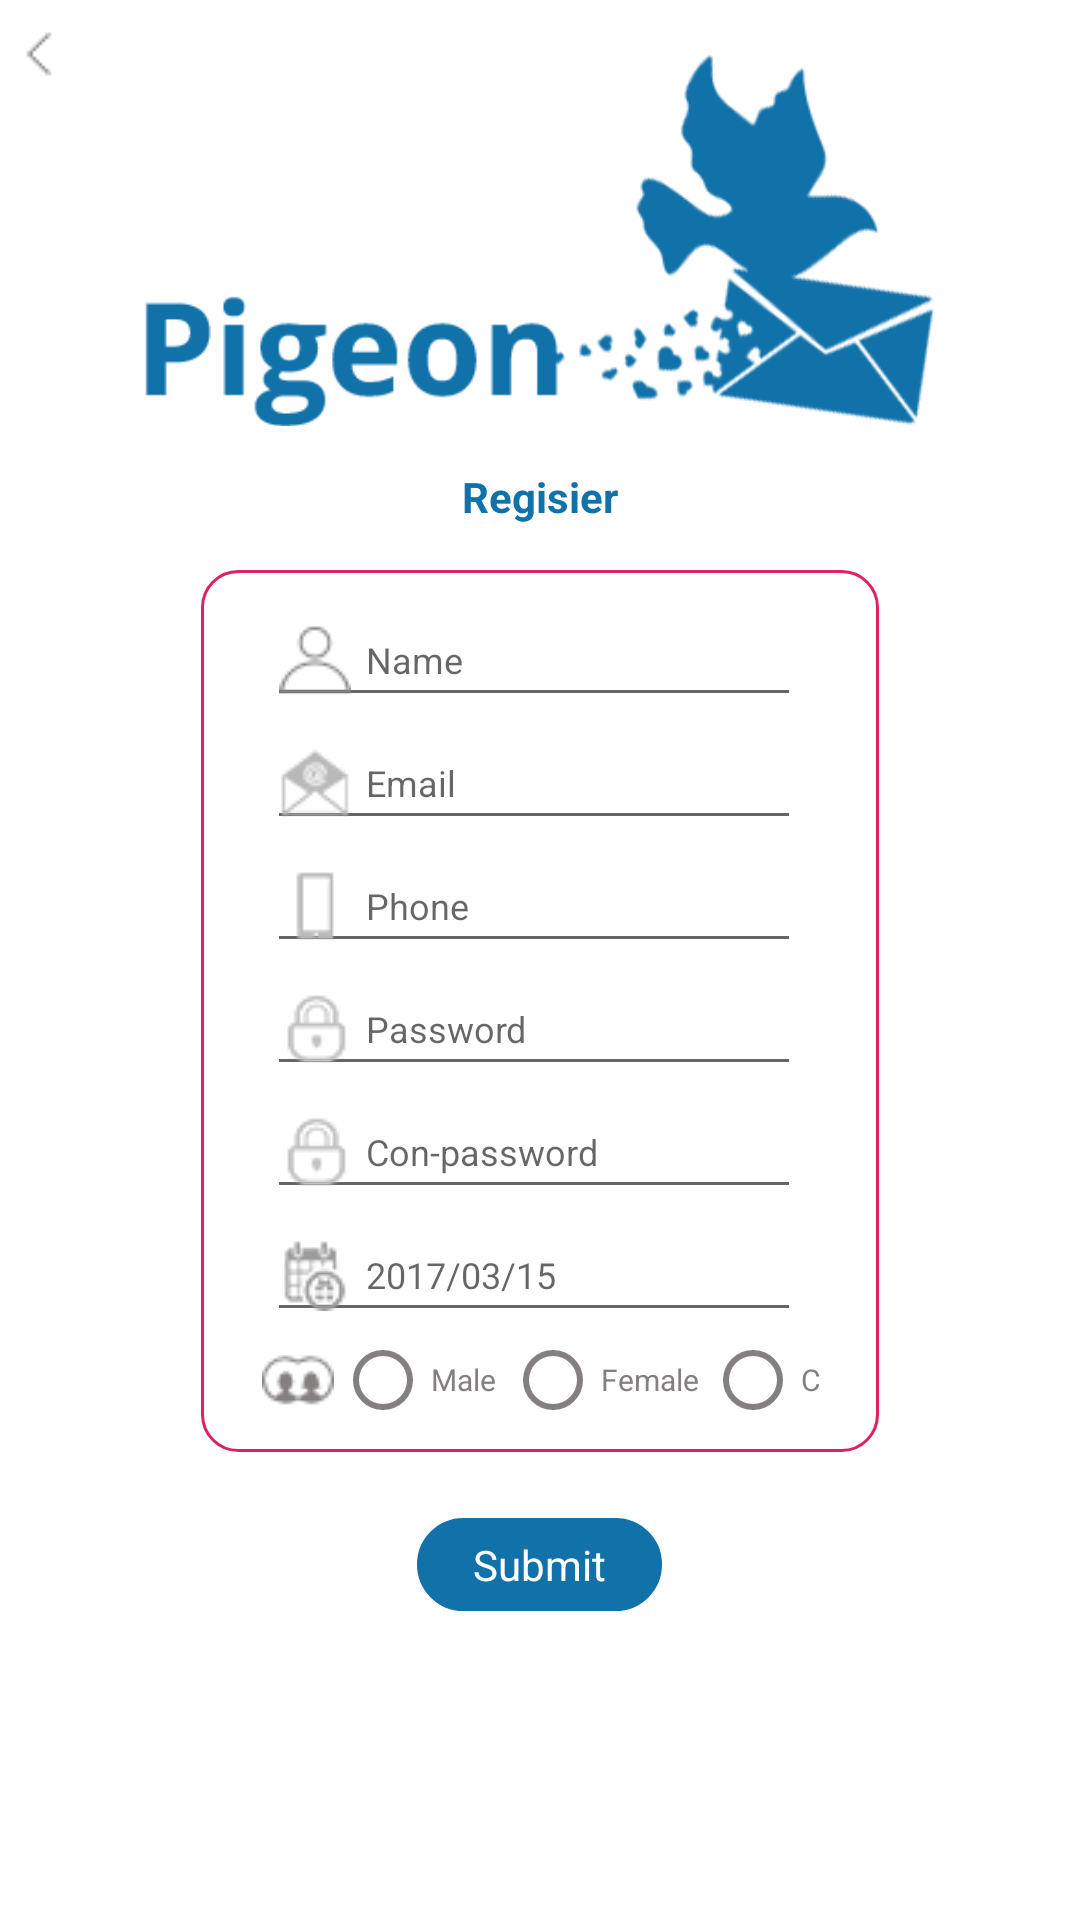

Icon bounding boxes for this 1080px x 1920px phone screenshot, format (x1, y1, x2, y2):
back: (27, 33, 51, 75)
gender: (262, 1355, 334, 1405)
